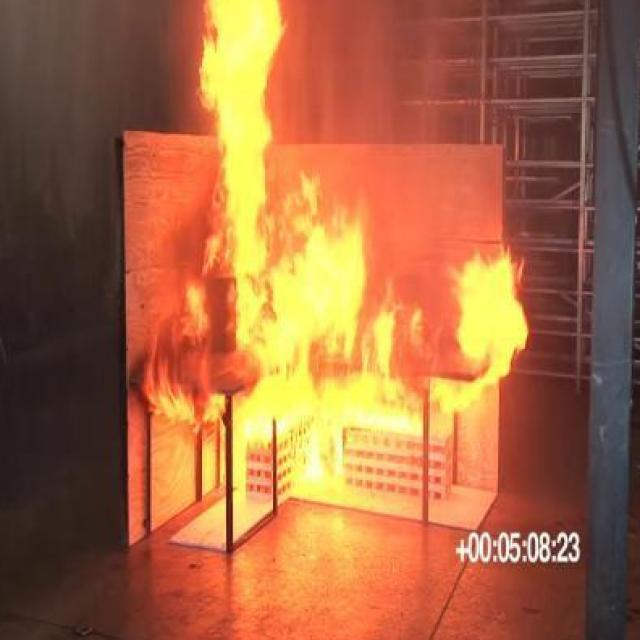smoke: (200, 0, 282, 454), (364, 258, 531, 424), (283, 178, 362, 489), (144, 279, 202, 434)
